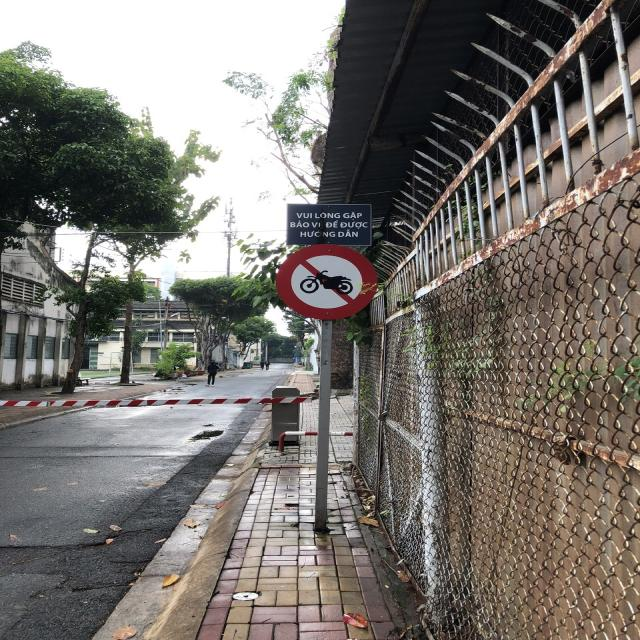Bien bao cam xe may: (270, 240, 382, 322)
